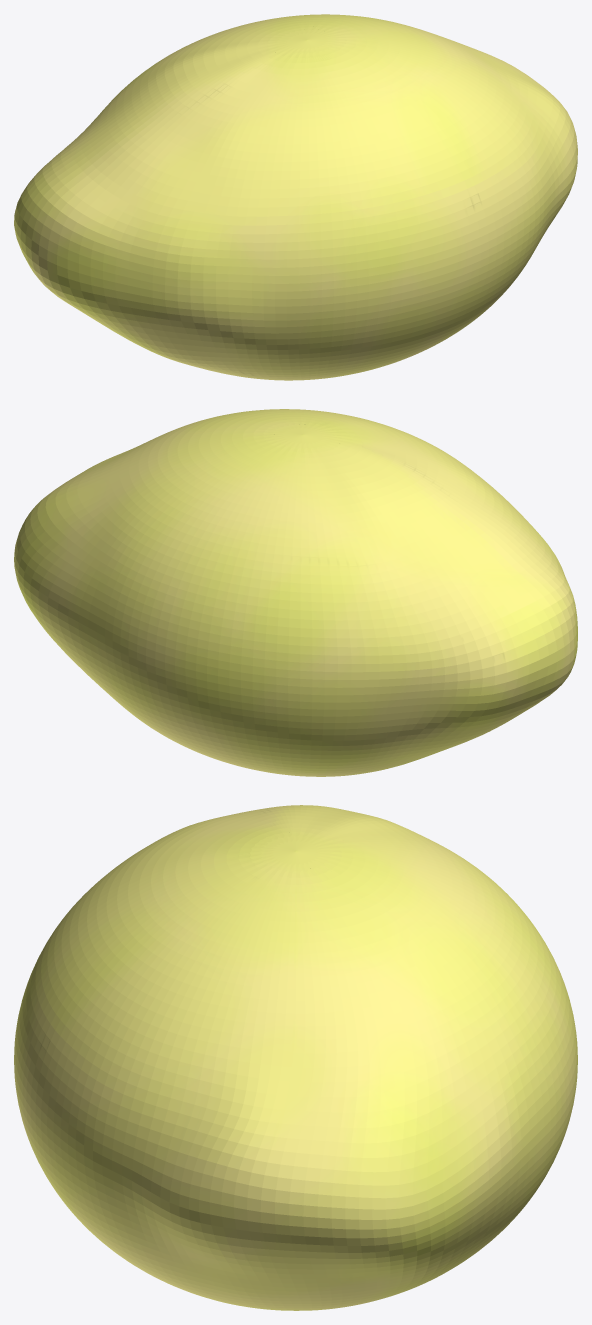
Rendered from lemonhead.fbx.
3 views of the same model, one above another, from view 1: azimuth 30°, elevation 25°; view 2: azimuth 150°, elevation 25°; view 3: azimuth 270°, elevation 25° (orthographic). The views are drawn at different scales.
Parts seen in each view (by area): view 1: Sphere; view 2: Sphere; view 3: Sphere.
Part boxes in pixels (x1,y1,x2,y2): Sphere: [14, 14, 577, 380]; Sphere: [14, 409, 577, 776]; Sphere: [14, 805, 577, 1310].
Bounding box in the file's own units: 410 × 233 × 286.
1 material, 1 textured.
